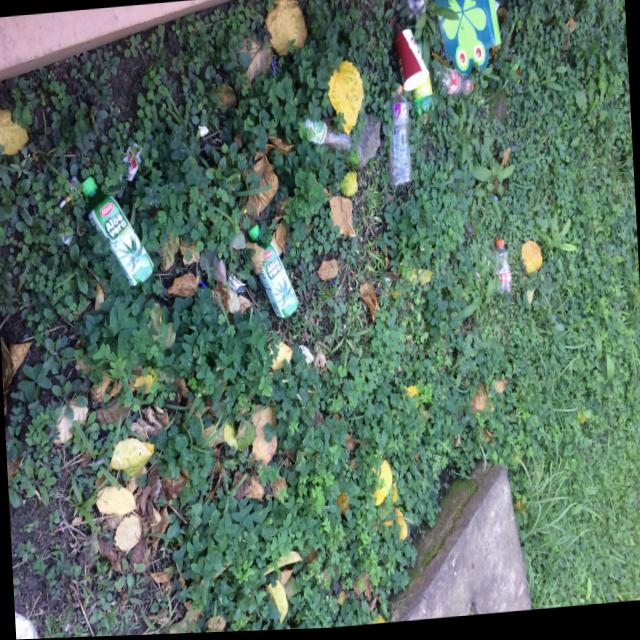Can-Metal: (15, 604, 44, 640), (225, 267, 247, 302)
Cup: (391, 27, 431, 98)
Plastic: (75, 165, 158, 301), (426, 0, 505, 86), (245, 218, 303, 329), (382, 83, 414, 193), (292, 114, 358, 158), (409, 34, 436, 126), (431, 59, 476, 108), (114, 136, 148, 193), (489, 236, 516, 306), (400, 0, 431, 25), (546, 0, 586, 6)
